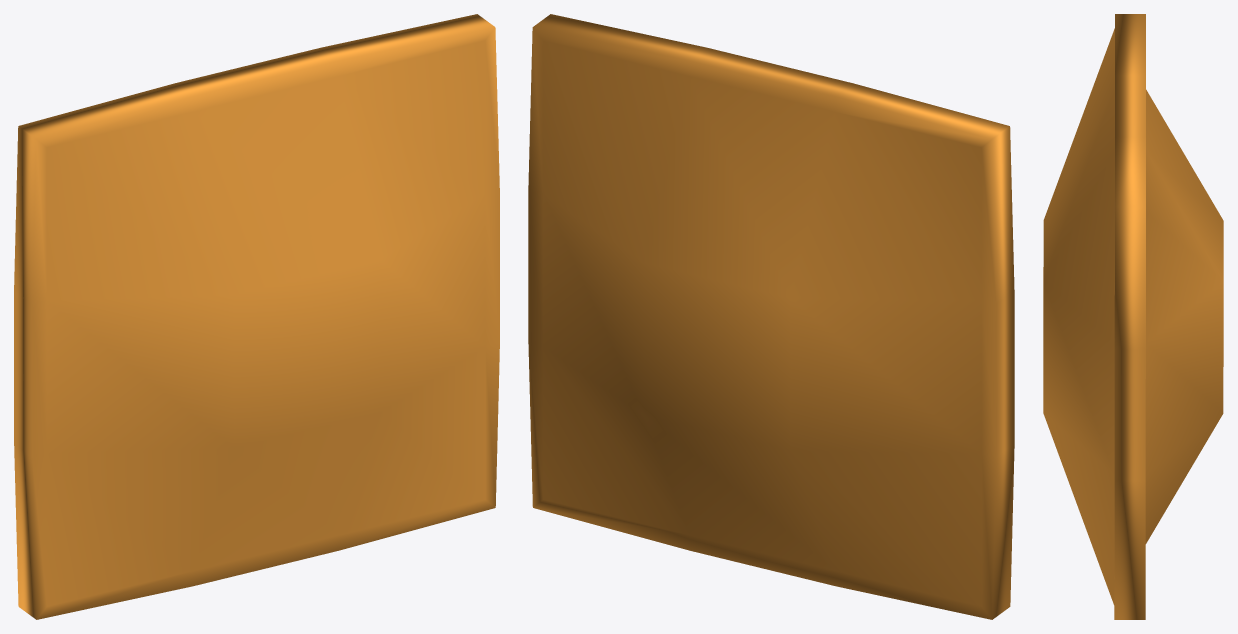
File: oreillerJaune.fbx
3 views of the same model, side by side, from view 1: azimuth 30°, elevation 25°; view 2: azimuth 150°, elevation 25°; view 3: azimuth 270°, elevation 25° (orthographic). The views are drawn at different scales.
Parts seen in each view (by area): view 1: Cube.004; view 2: Cube.004; view 3: Cube.004.
Boxes of the visible parts, x1,y1,x2,y2 form: Cube.004: (14, 14, 499, 619); Cube.004: (528, 14, 1014, 619); Cube.004: (1043, 14, 1223, 619).
Bounding box in the file's own units: 149 × 149 × 57.96.
